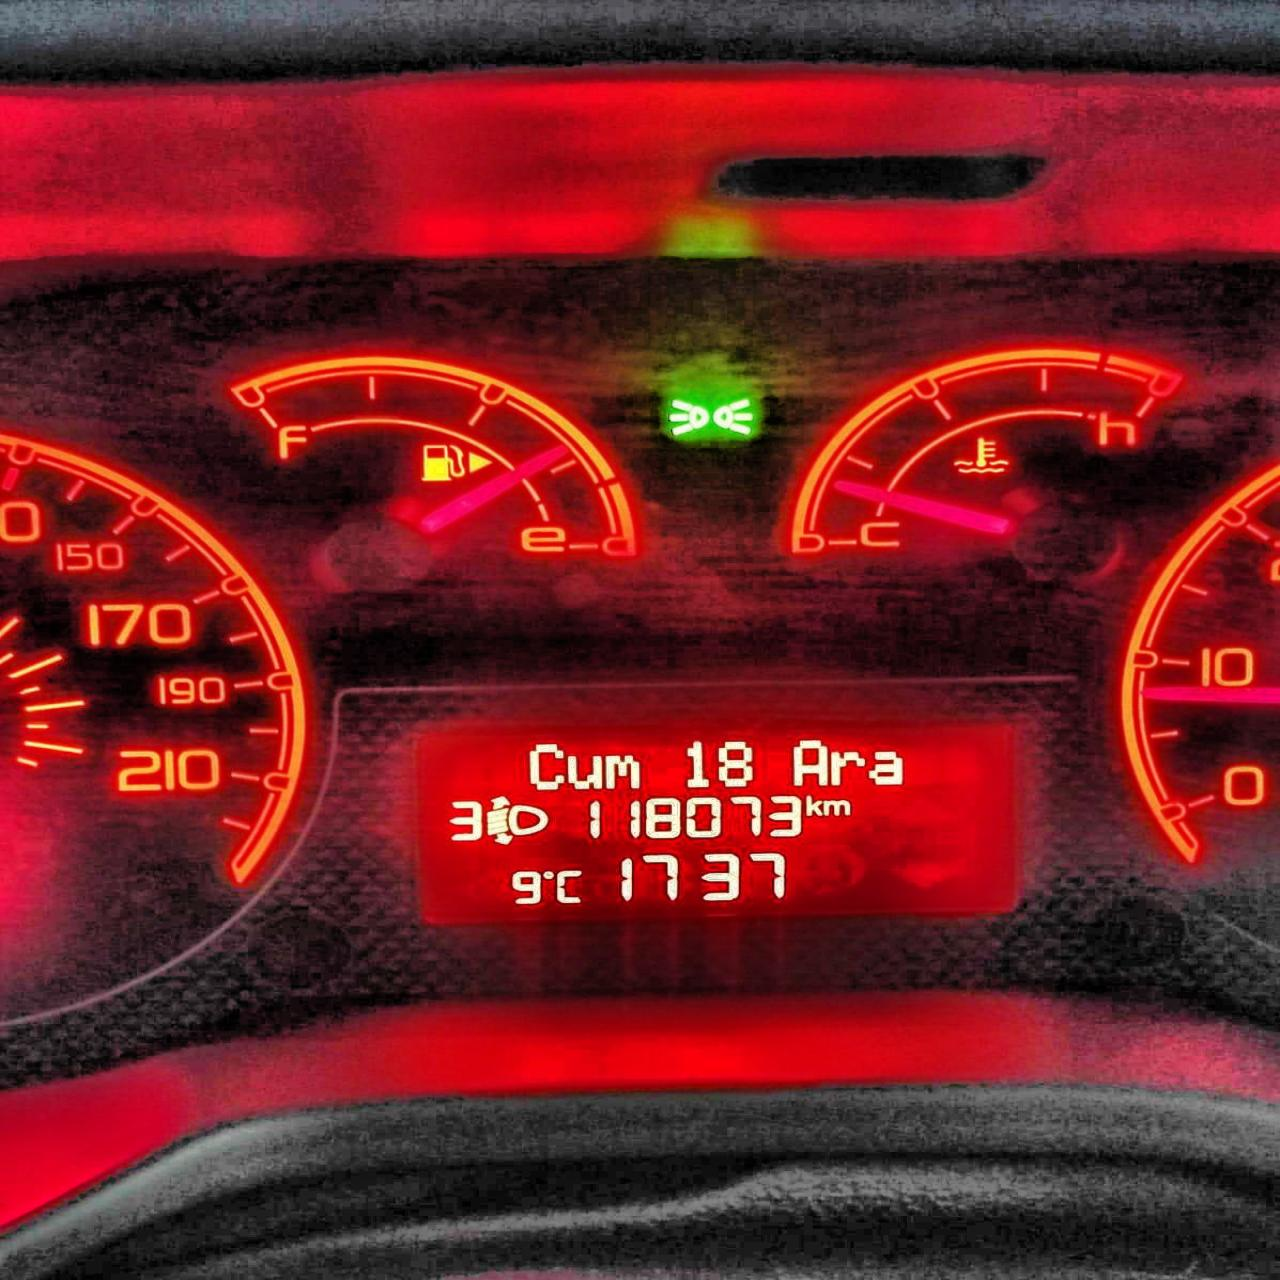0: (682, 794, 723, 840)
1: (681, 736, 712, 790), (614, 853, 636, 903), (581, 798, 606, 840), (621, 795, 644, 840)
3: (693, 850, 740, 904), (444, 797, 483, 843), (764, 792, 802, 838)
7: (745, 847, 785, 903), (641, 851, 681, 900), (723, 794, 762, 837)
8: (715, 736, 756, 790), (642, 795, 681, 839)
9: (509, 867, 542, 906)
X: (525, 741, 565, 792), (792, 735, 829, 787), (601, 753, 642, 791), (866, 747, 905, 788), (830, 747, 866, 787), (565, 753, 601, 791), (556, 869, 585, 906), (822, 798, 853, 817), (803, 792, 822, 817)
odometer: (409, 706, 1023, 928)
